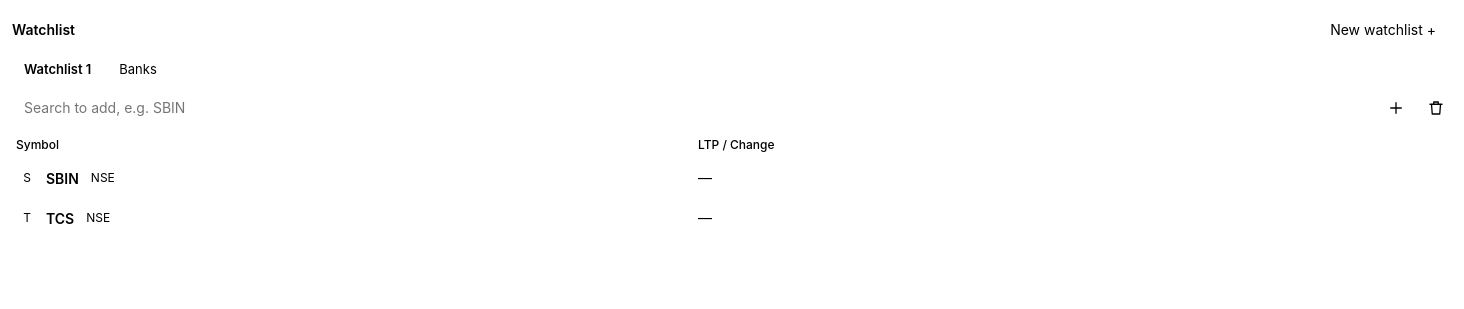
Test case: WatchlistPanel › FR-WATCH-002 AC2: renaming (double-click) to an existing name shows the inline error and changes nothing
The width and height of the screenshot is (1464, 309).
Double-click the tab "Banks" at [138, 69], box [107,56,169,82]
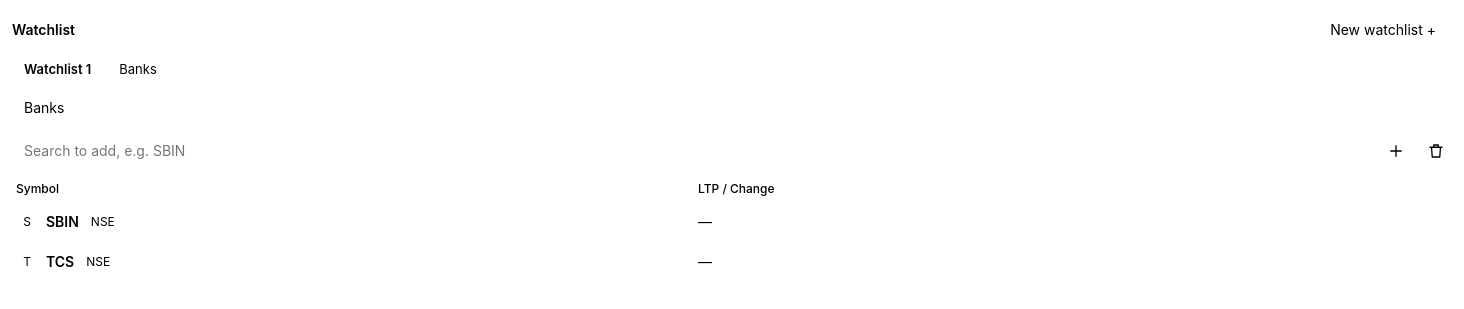
Replace the text in the field named "Watchlist name" with "watchlist 1" at [732, 108], box [12,90,1452,125]
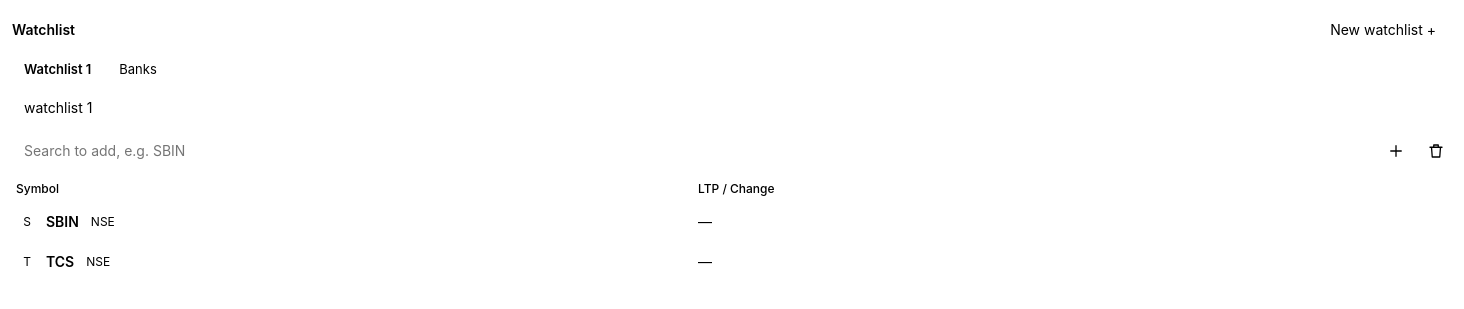
Press Enter in the field named "Watchlist name", box [12,90,1452,125]
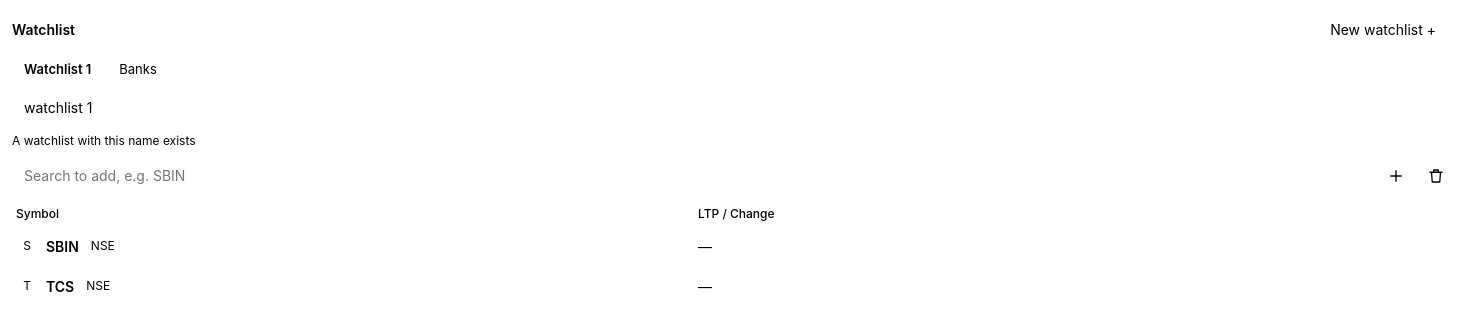
Expected: the message reads "A watchlist with this name exists", [12,133,196,148]
